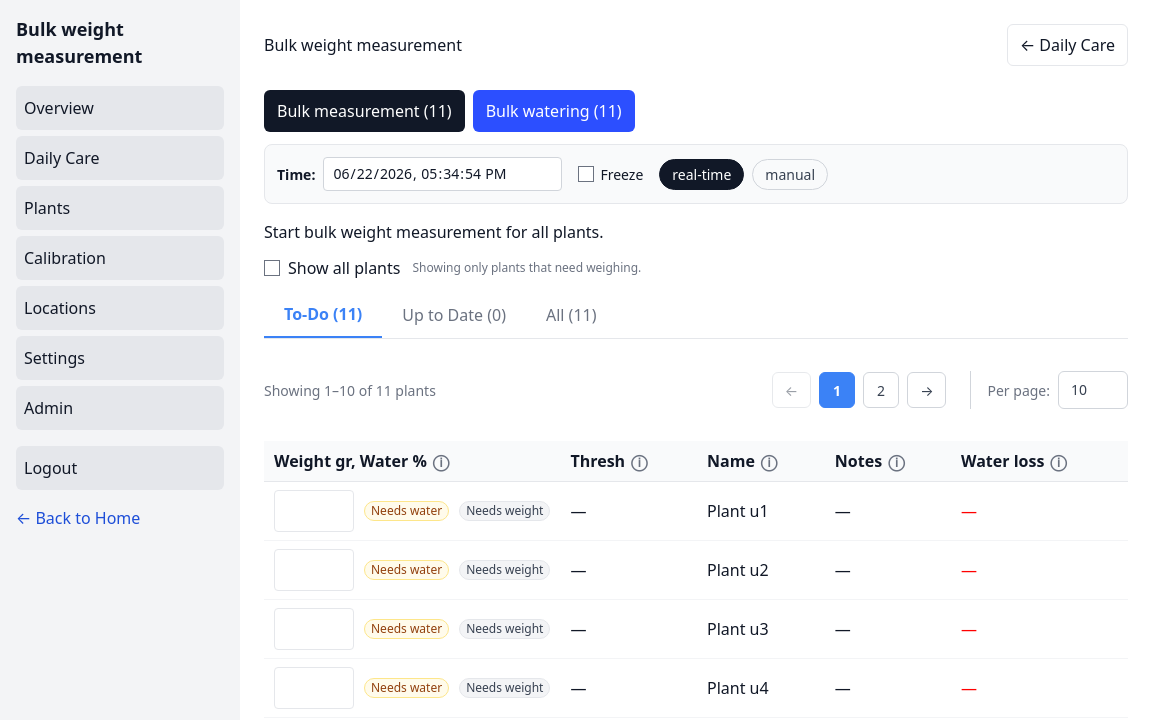
Scenario: pages/BulkWeightMeasurement › shows error when current page data request fails
Expected: the link "Plant u1" is shown, [707,500,769,522]
Click the button named "next page": (927, 390) [907,372,946,408]
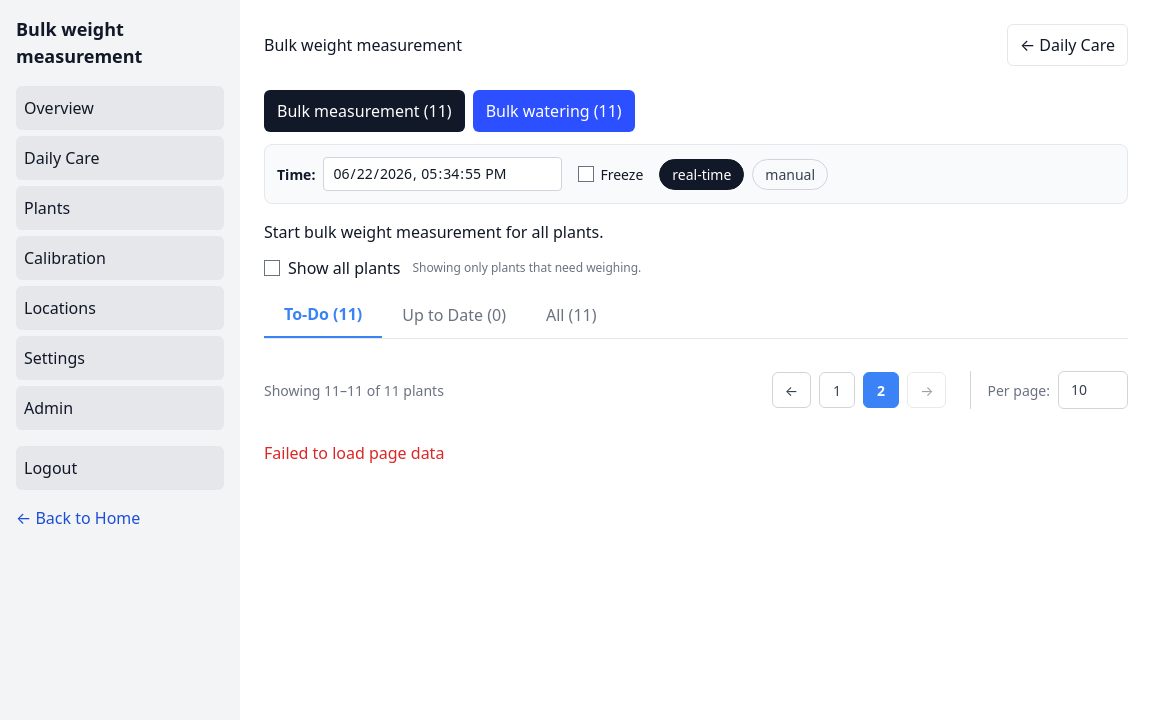
Result: the text "Failed to load page data" is shown at [264,442,444,464]
